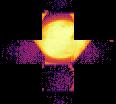earth: (33, 21, 92, 61)
